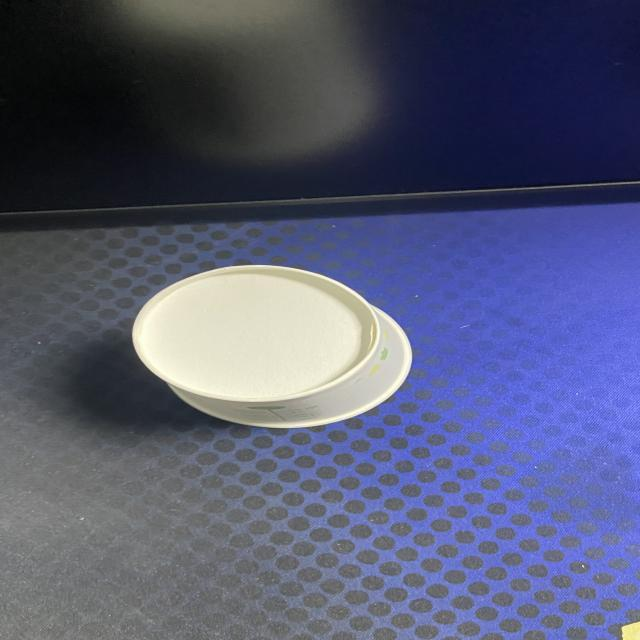trash: (128, 263, 416, 429)
